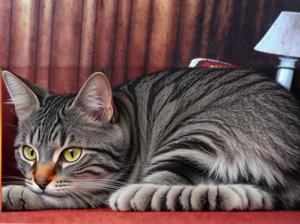cat: (1, 67, 300, 211)
